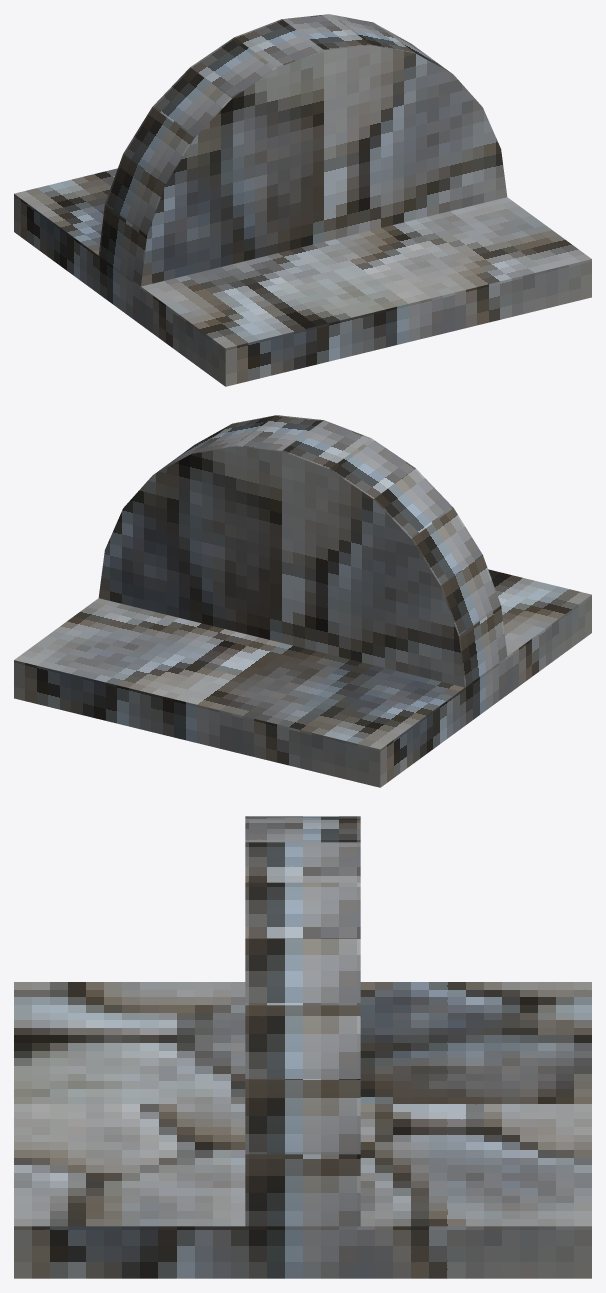
Rendered from detail.obj.
The picture shows the model from 3 angles, top to bottom: view 1: azimuth 30°, elevation 25°; view 2: azimuth 150°, elevation 25°; view 3: azimuth 270°, elevation 25°; orthographic projection. The views are drawn at different scales.
Parts seen in each view (by area): view 1: Mesh1 Model; view 2: Mesh1 Model; view 3: Mesh1 Model.
Part boxes in pixels (box(x1,y1,x2,y2)): Mesh1 Model: box(14, 14, 591, 386); Mesh1 Model: box(14, 415, 591, 787); Mesh1 Model: box(14, 816, 591, 1278).
Size of the model in its own units: 1 by 0.6 by 1.
Materials: 1 (1 with a texture image).
